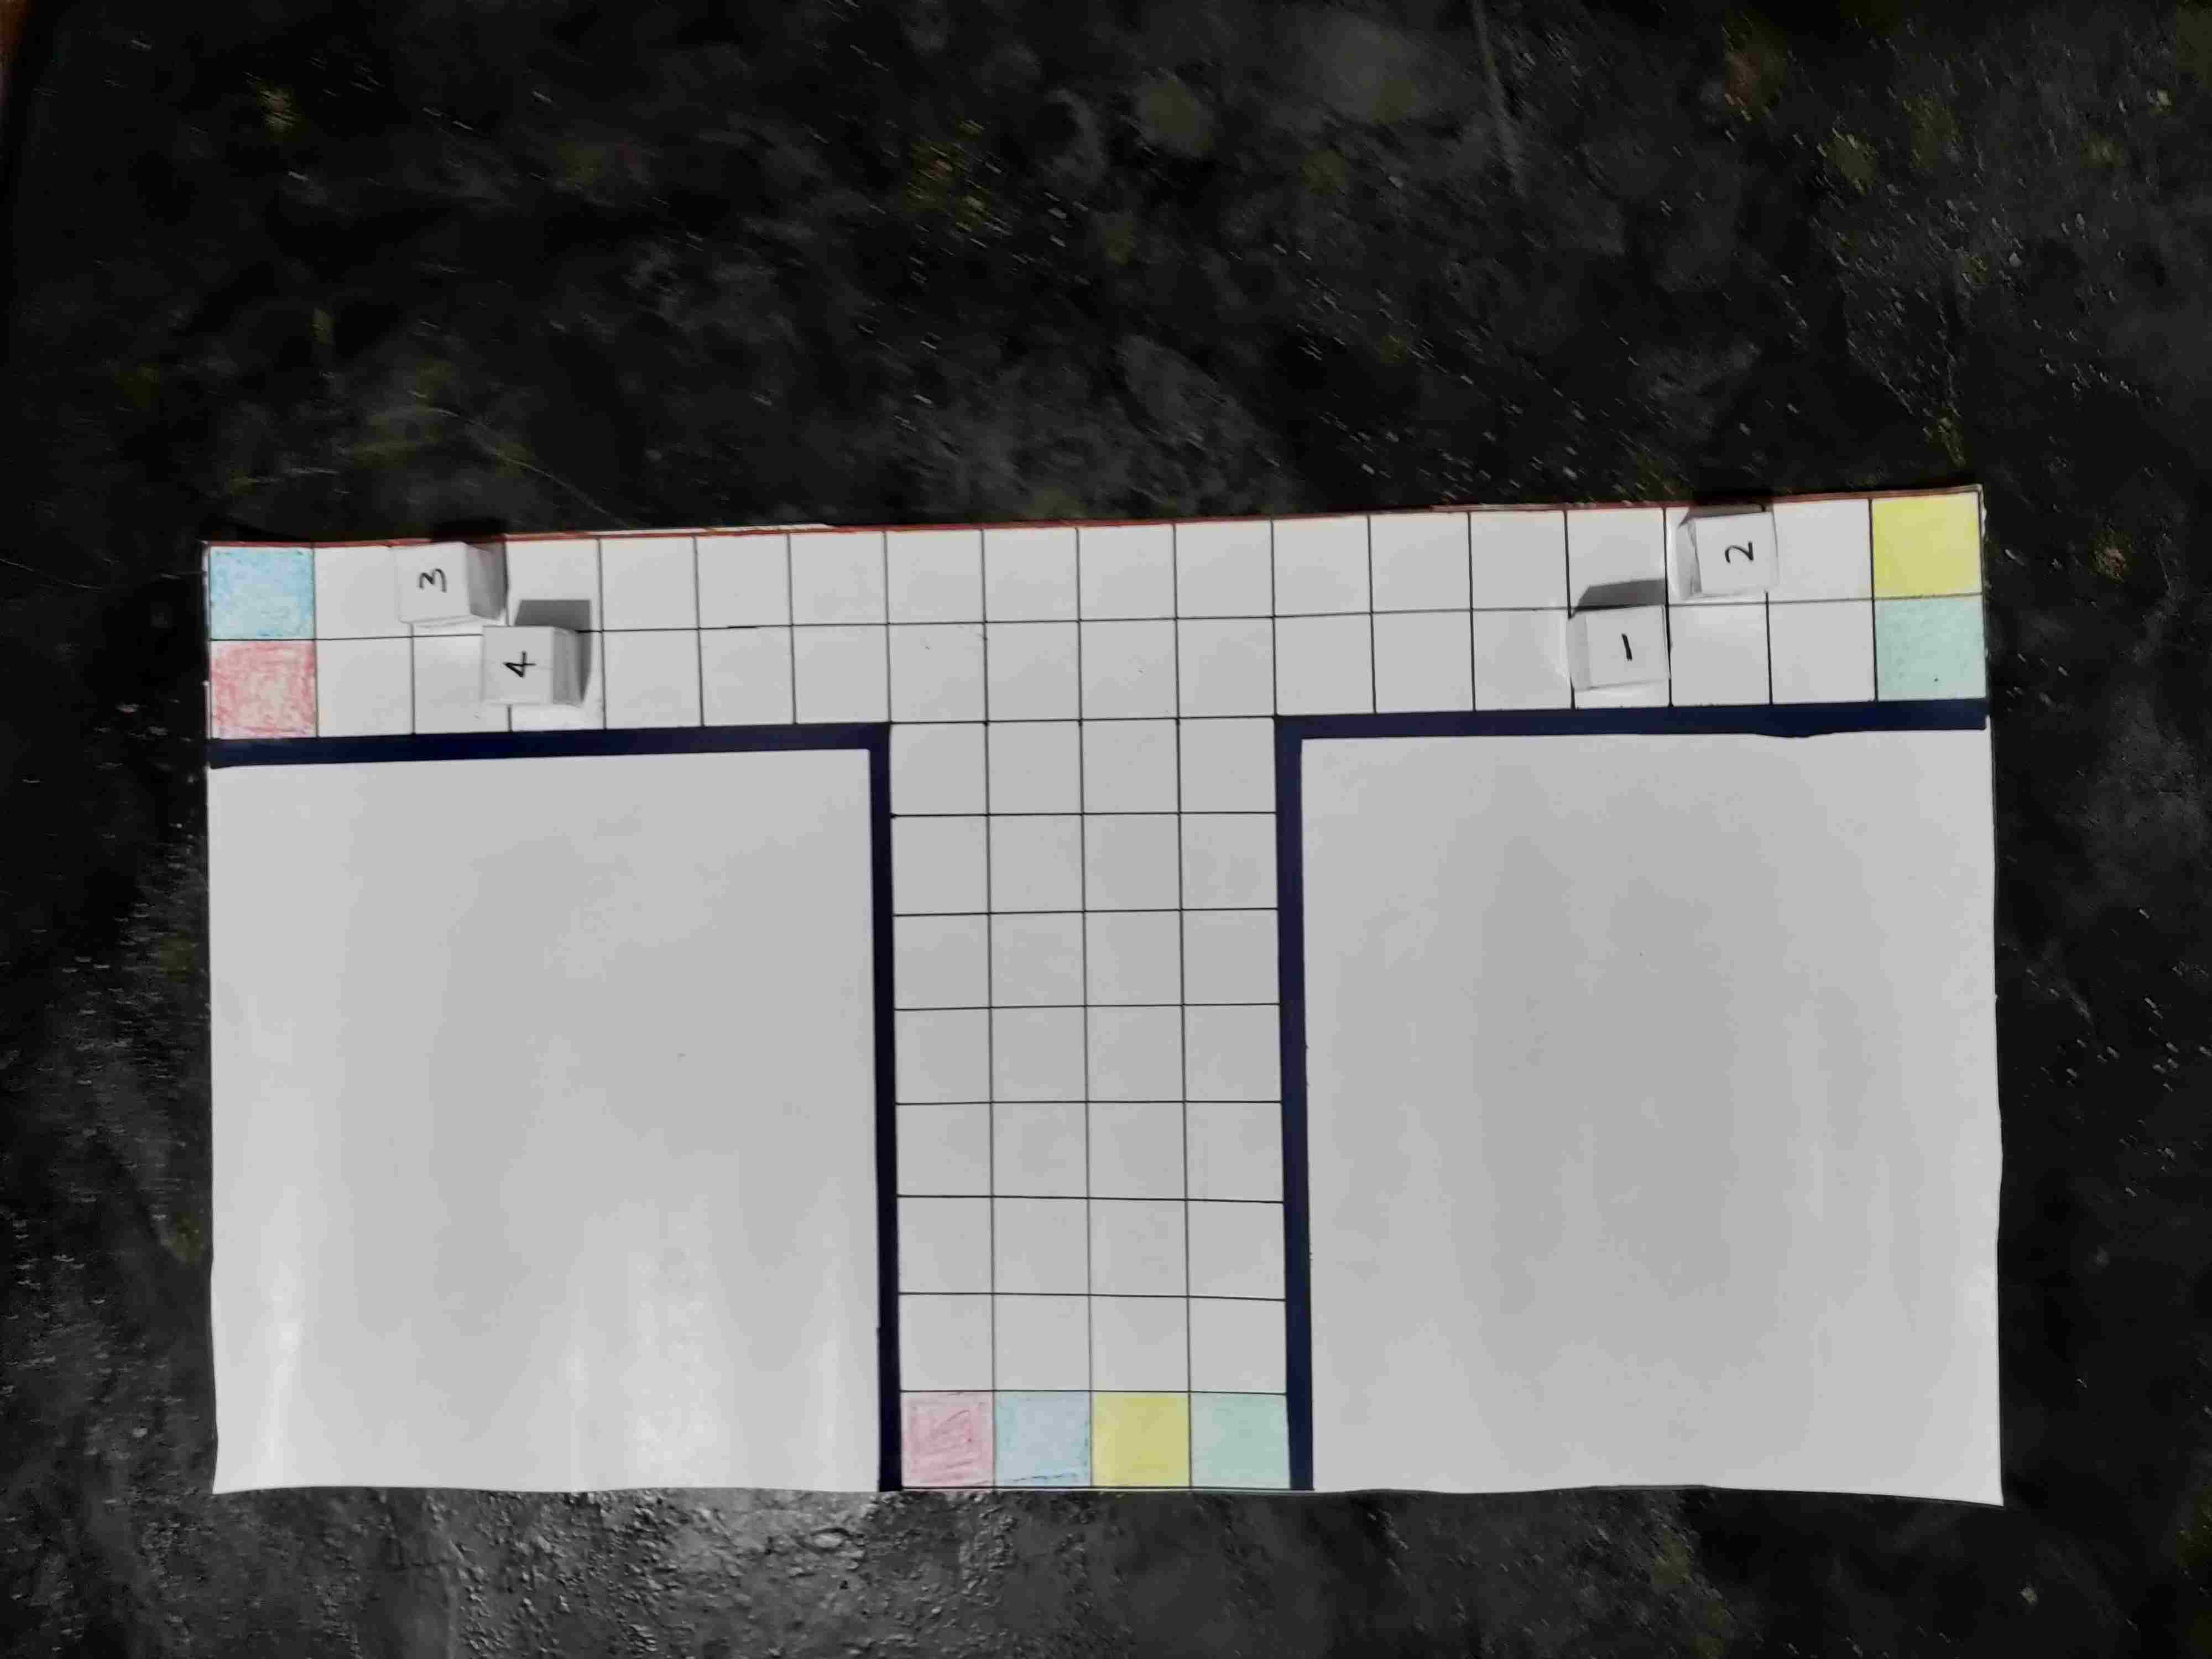arena: (214, 490, 2001, 1506)
bot: (1578, 605, 1665, 690), (1686, 516, 1780, 594), (395, 540, 470, 619), (481, 627, 559, 702)
